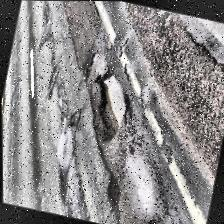pothole: (81, 69, 137, 150)
